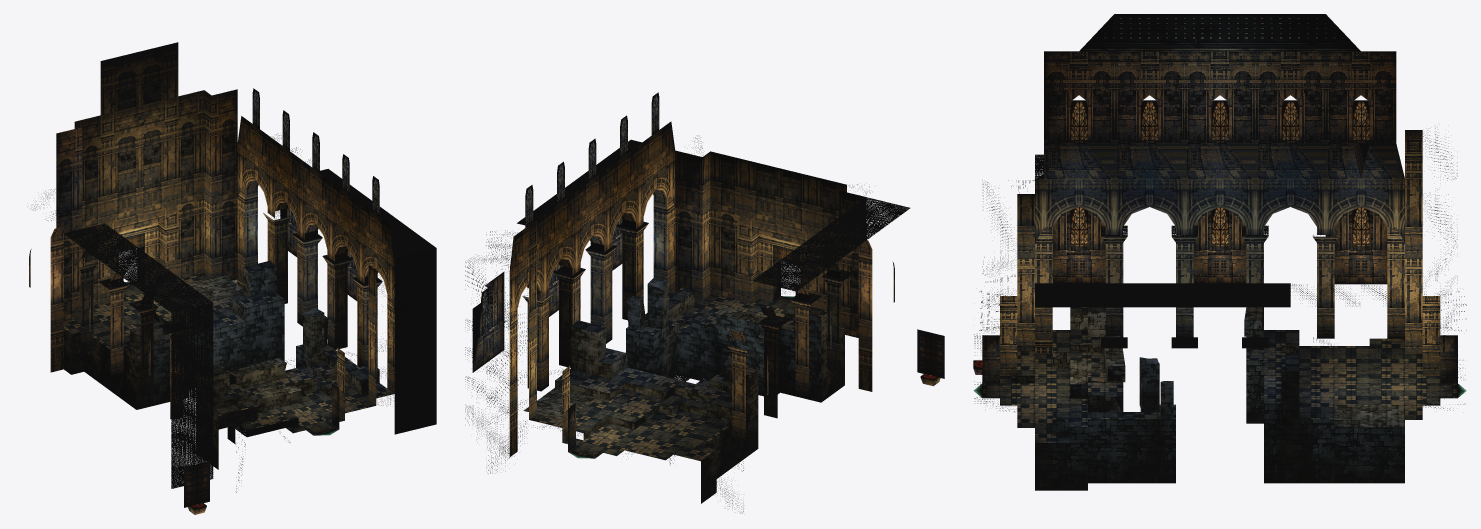
Rendered from MAP134.gltf.
3 renders of one model, left to right at view 1: azimuth 30°, elevation 25°; view 2: azimuth 150°, elevation 25°; view 3: azimuth 270°, elevation 25°, orthographic. The views are drawn at different scales.
Bounding box in the file's own units: 272 × 339 × 359.
72 materials, 72 textured.
